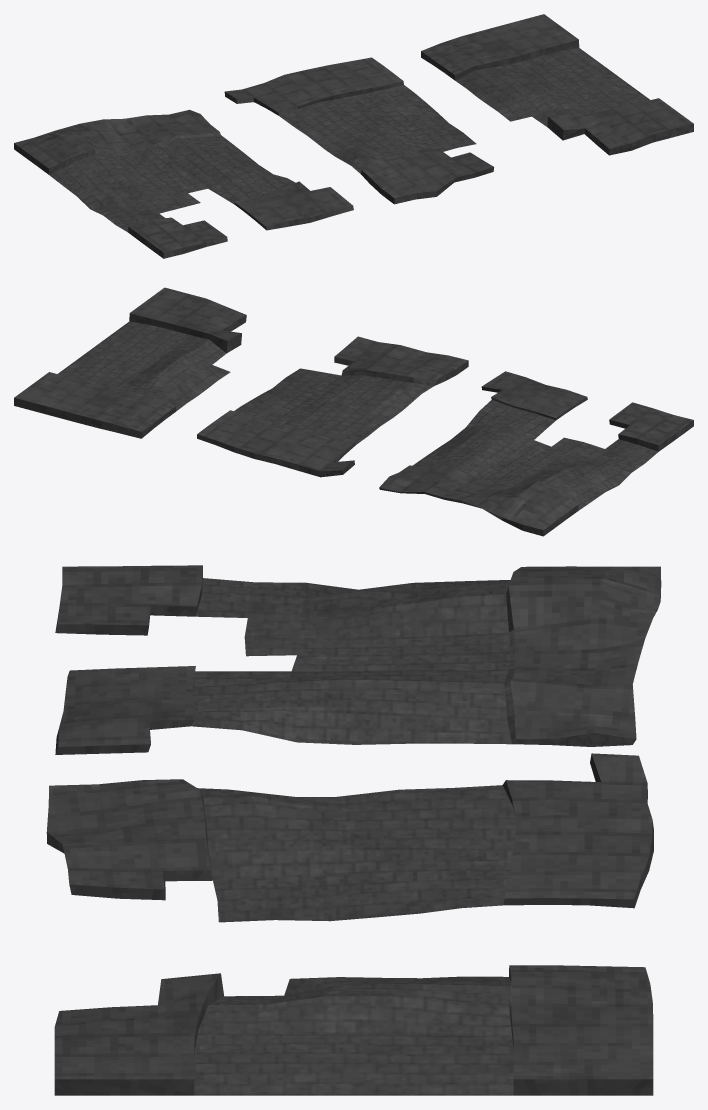
Rendered from Stone Path.fbx.
The picture shows the model from 3 angles, top to bottom: view 1: azimuth 30°, elevation 25°; view 2: azimuth 150°, elevation 25°; view 3: azimuth 270°, elevation 25°; orthographic projection. The views are drawn at different scales.
Visible parts, largest first — view 1: Castle Floor; view 2: Castle Floor; view 3: Castle Floor.
Boxes of the visible parts, <box> form: Castle Floor: <box>14,14,693,258</box>; Castle Floor: <box>14,287,693,536</box>; Castle Floor: <box>46,565,661,1095</box>.
Bounding box in the file's own units: 411 × 17.28 × 207.
1 material, 1 textured.
